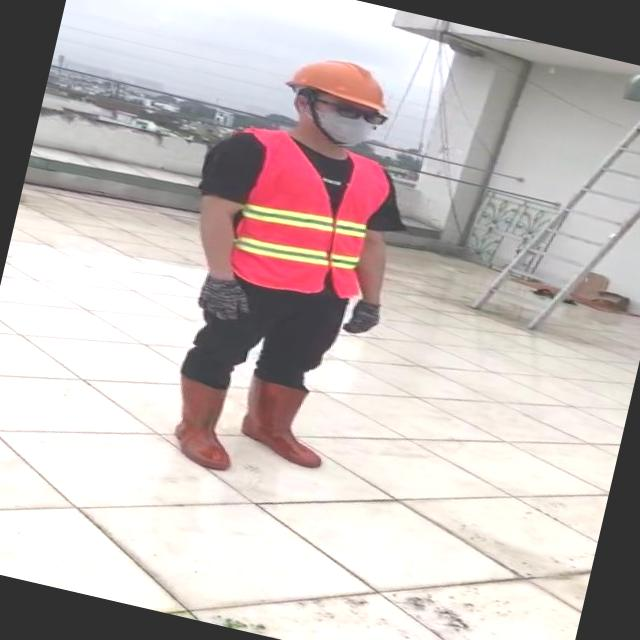boots: (232, 374, 336, 471), (165, 371, 250, 476)
gloves: (311, 268, 413, 366), (164, 249, 259, 346)
helmet: (279, 46, 404, 115)
vest: (205, 122, 398, 310)
